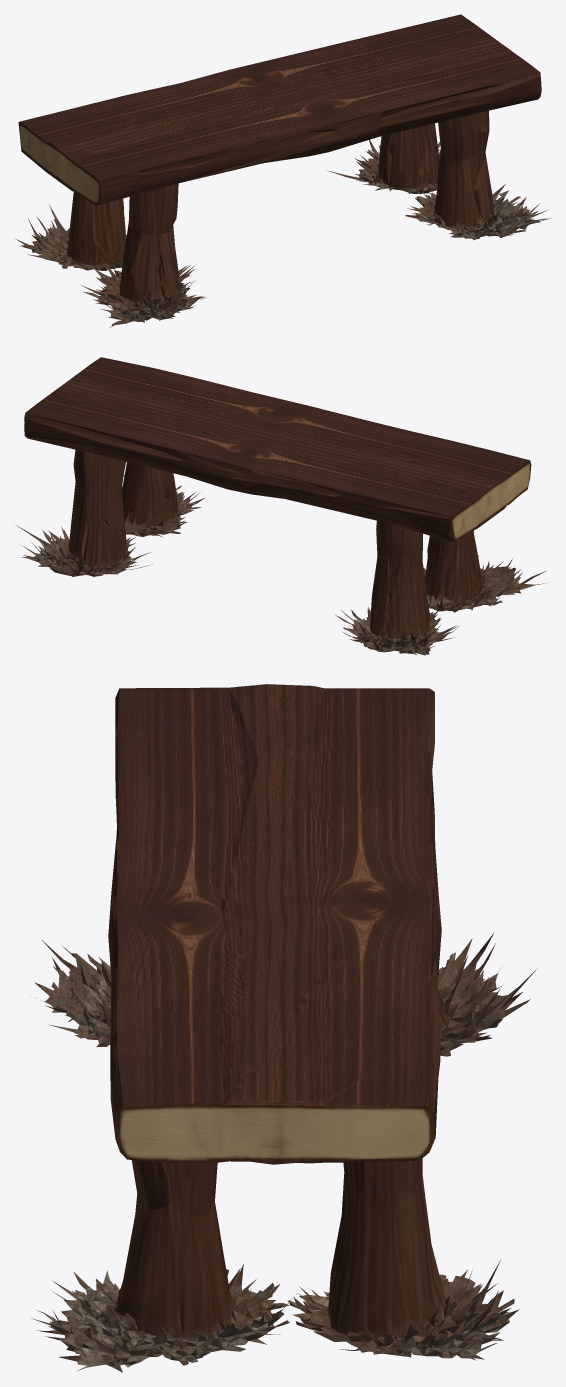
The picture shows the model from 3 angles, top to bottom: view 1: azimuth 30°, elevation 25°; view 2: azimuth 150°, elevation 25°; view 3: azimuth 270°, elevation 25°; orthographic projection. The views are drawn at different scales.
Size of the model in its own units: 1.87 by 0.5574 by 0.9172.
Materials: 1 (1 with a texture image).
